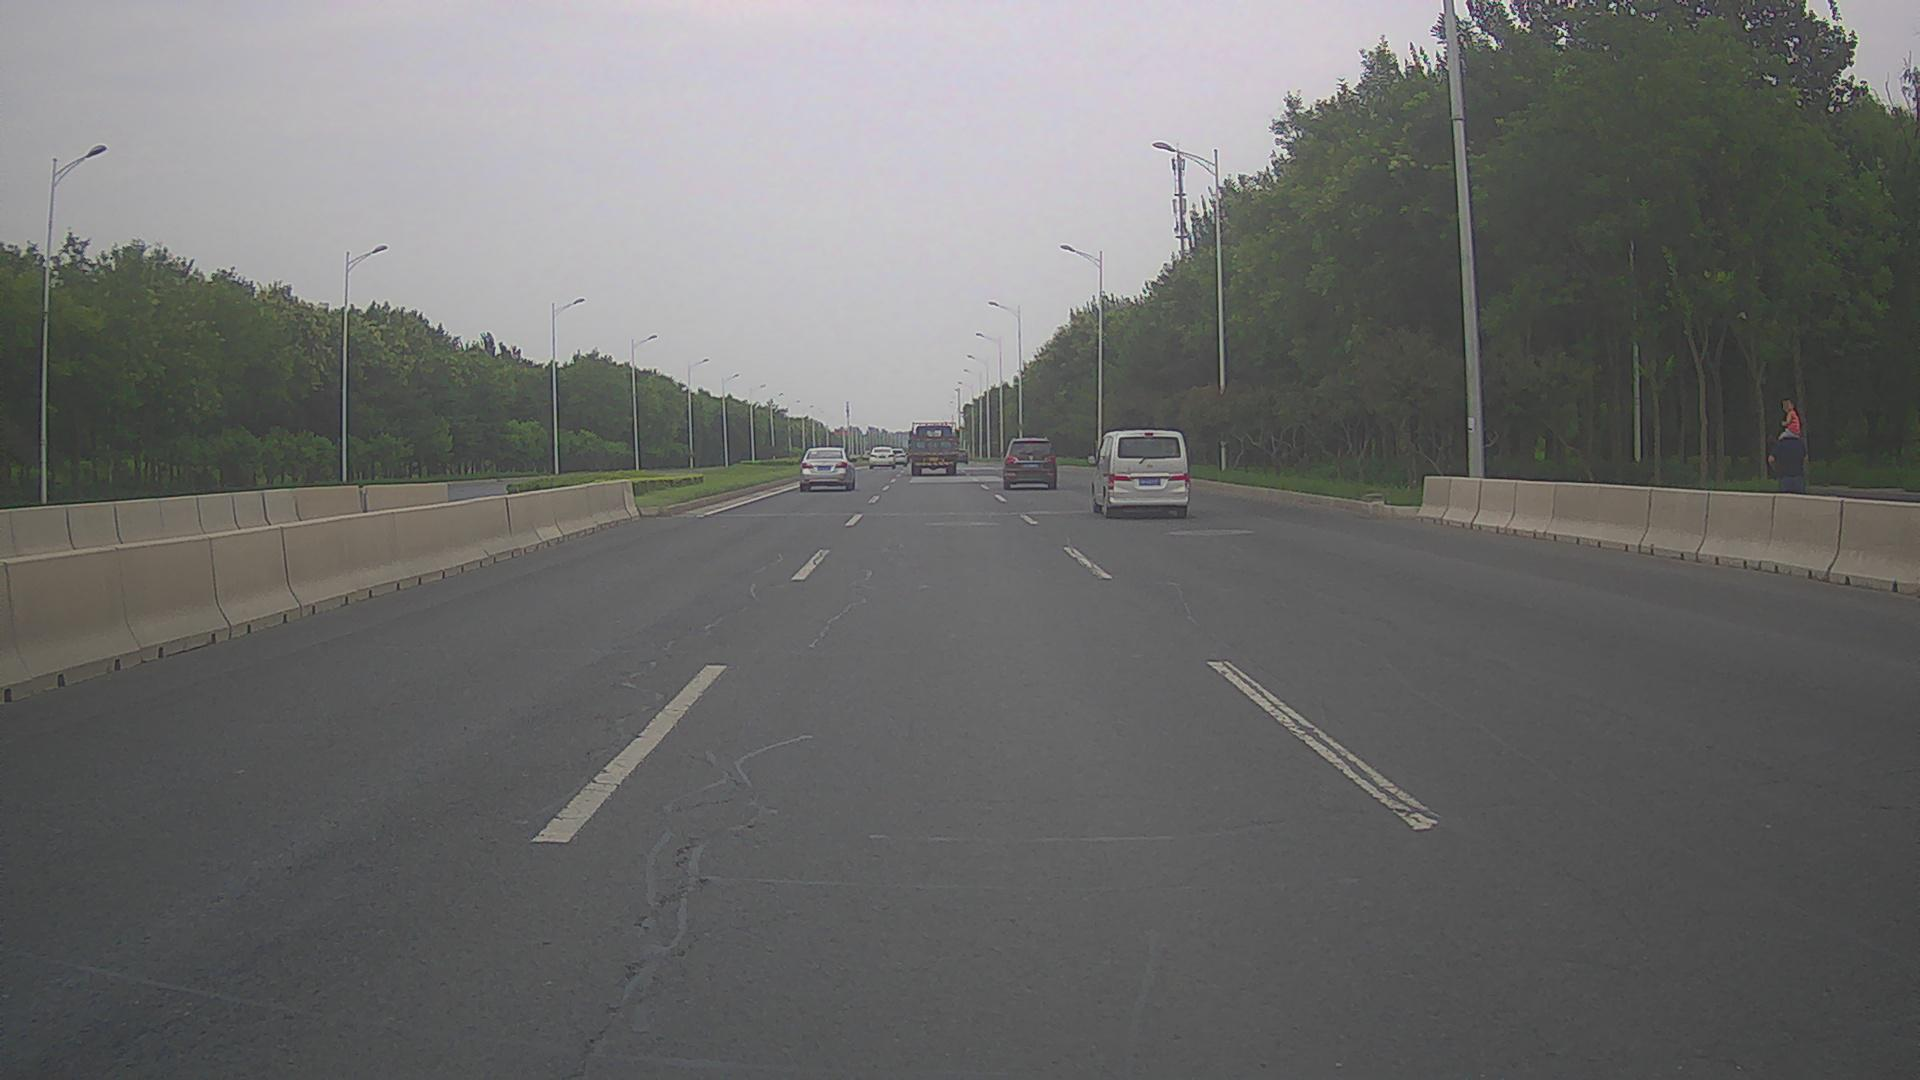car: (1001, 437, 1057, 489), (799, 446, 856, 491), (868, 445, 895, 470), (887, 447, 907, 464), (953, 449, 969, 464)
ignore: (845, 446, 870, 463)
pedestrian: (1766, 414, 1808, 529)
truck: (906, 420, 960, 476)
van: (1086, 429, 1190, 519)
